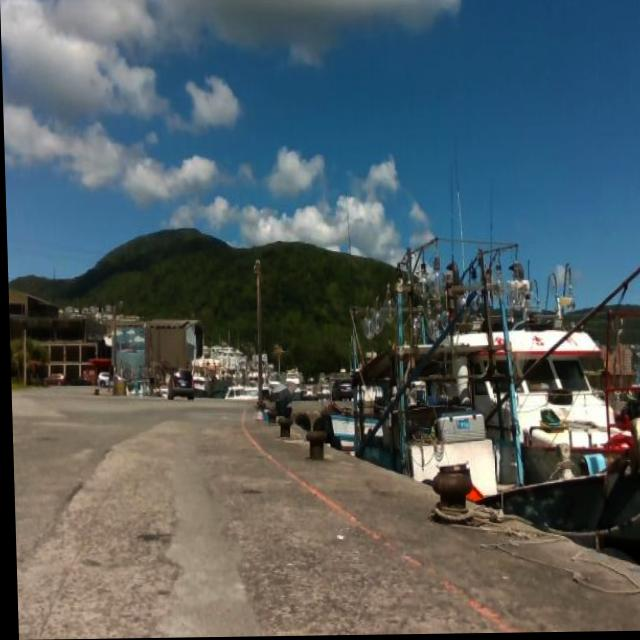pollute: (253, 409, 262, 423)
